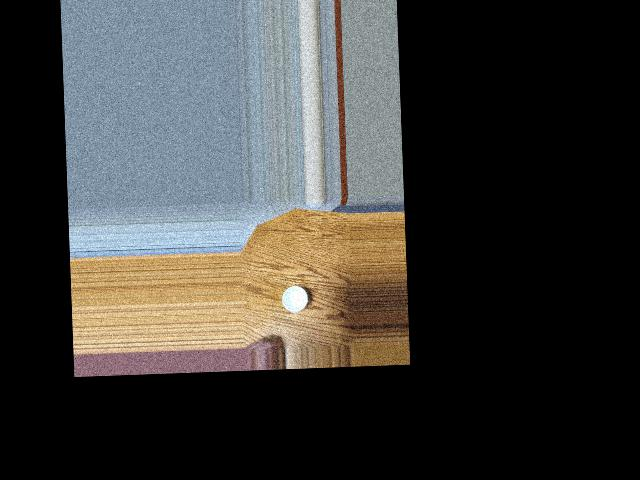cotage: (277, 283, 307, 317)
